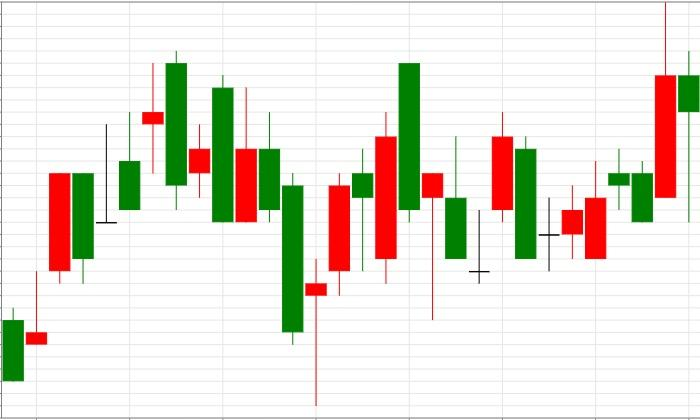bearish_engulfing_fall: (2, 50, 188, 382)
hanging_man_fall: (538, 2, 700, 271)
